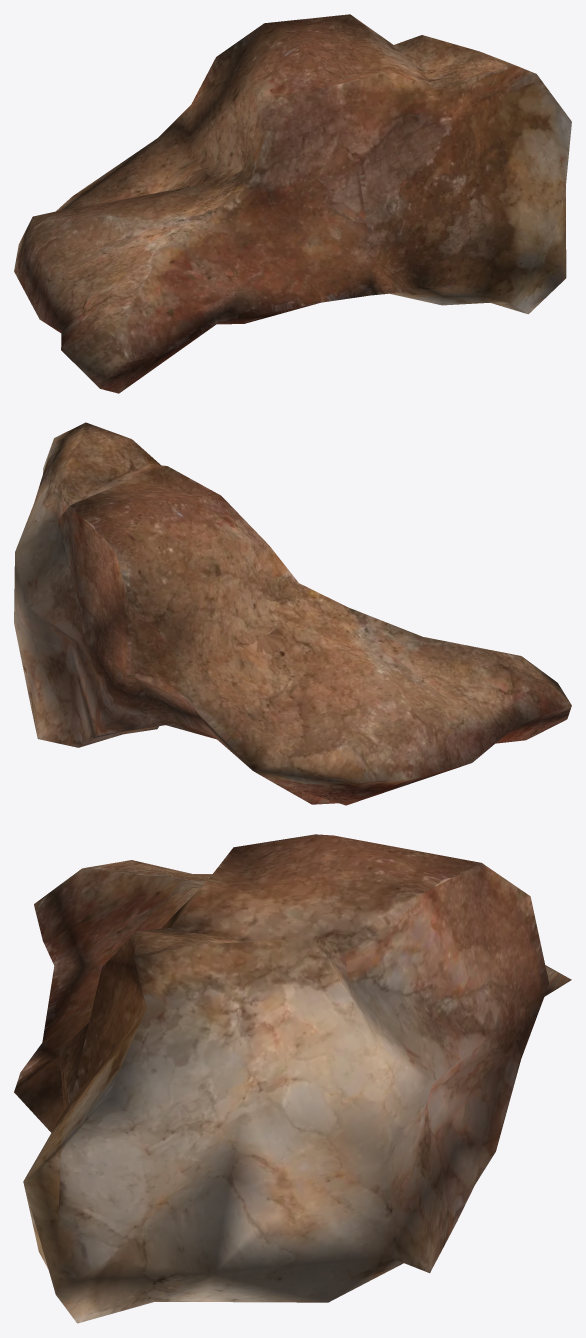
File: stone.glb
The picture shows the model from 3 angles, top to bottom: view 1: azimuth 30°, elevation 25°; view 2: azimuth 150°, elevation 25°; view 3: azimuth 270°, elevation 25°; orthographic projection. The views are drawn at different scales.
Visible parts, largest first — view 1: lod1; view 2: lod1; view 3: lod1.
Boxes of the visible parts, left/top/right/bottom form: lod1: left=14, top=14, right=571, bottom=393; lod1: left=14, top=422, right=571, bottom=805; lod1: left=14, top=834, right=571, bottom=1323.
Size of the model in its own units: 0.8147 by 0.3848 by 0.4934.
Materials: 1 (1 with a texture image).
